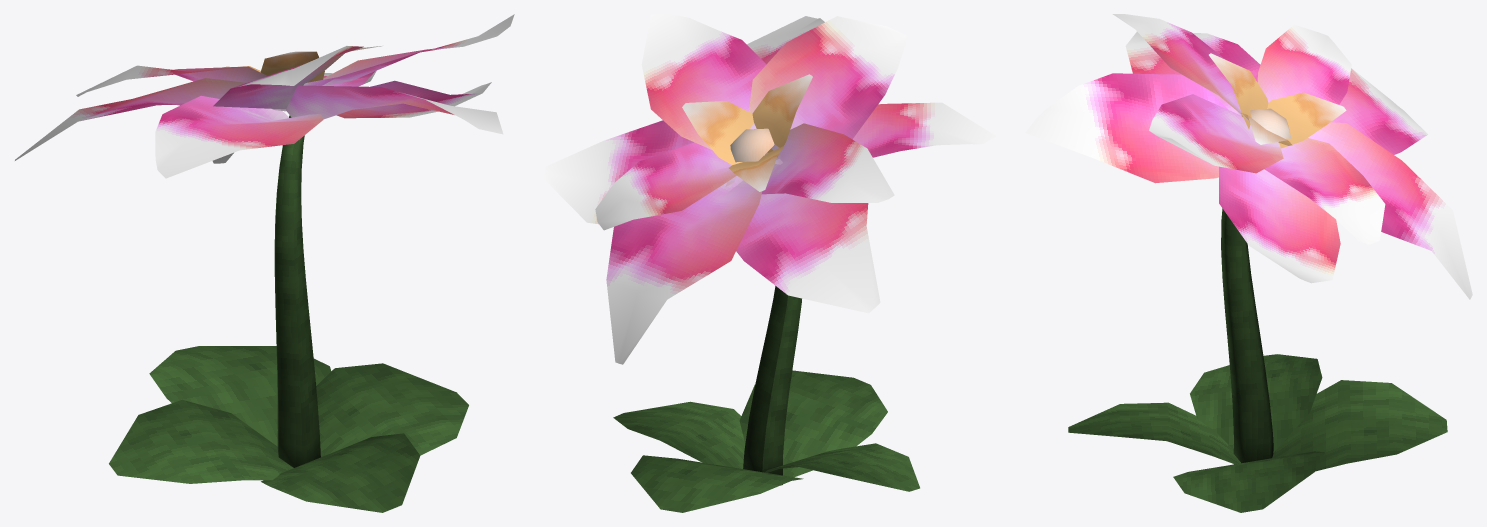
File: flower_export (1).obj
3 views of the same model, side by side, from view 1: azimuth 30°, elevation 25°; view 2: azimuth 150°, elevation 25°; view 3: azimuth 270°, elevation 25° (orthographic). The views are drawn at different scales.
Visible parts, largest first — view 1: Skylei; view 2: Skylei; view 3: Skylei.
Boxes of the visible parts, x1=… form: Skylei: x1=15, y1=14, x2=514, y2=512; Skylei: x1=543, y1=14, x2=995, y2=512; Skylei: x1=1025, y1=14, x2=1472, y2=512.
Bounding box in the file's own units: 1.4 × 1.51 × 1.41.
